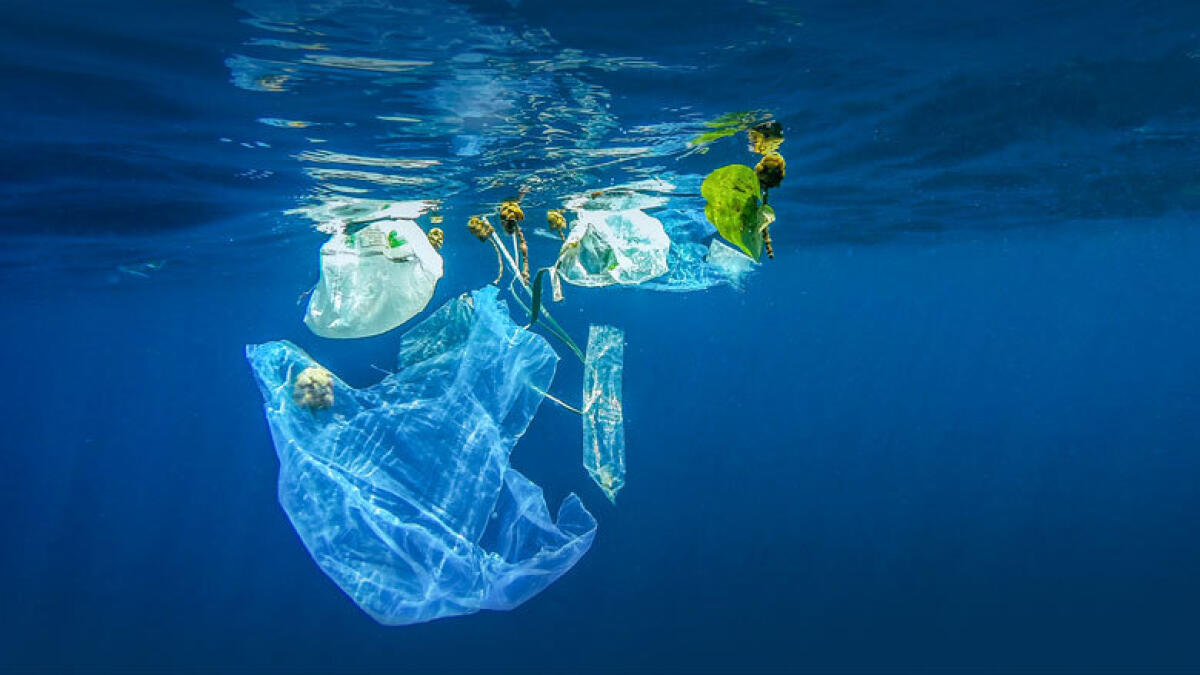Plastic: (235, 281, 641, 624), (297, 216, 460, 336), (547, 203, 682, 287)
